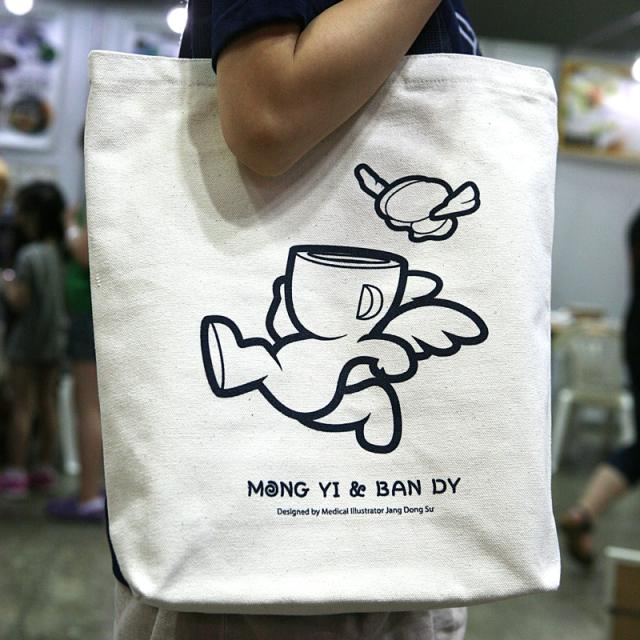ecobag: (68, 28, 588, 613)
